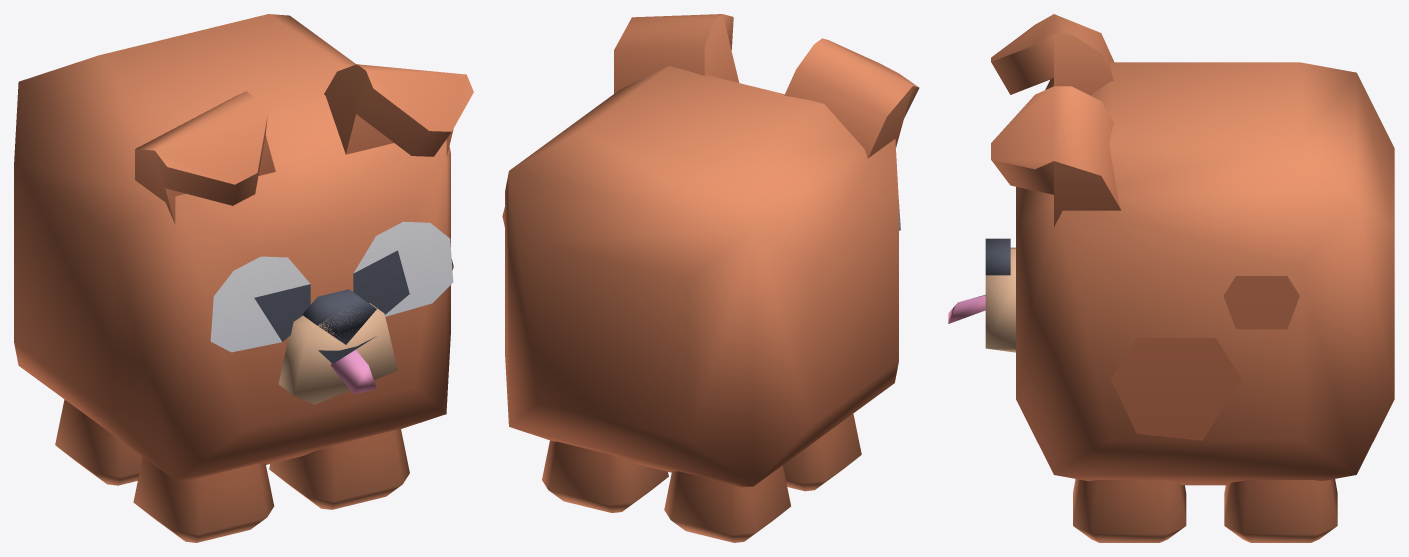
The model's file is cc0-corgi-lod1.glb.
The picture shows the model from 3 angles, left to right: view 1: azimuth 30°, elevation 25°; view 2: azimuth 150°, elevation 25°; view 3: azimuth 270°, elevation 25°; orthographic projection. The views are drawn at different scales.
Parts seen in each view (by area): view 1: part_1, part_5, part_4, part_3; view 2: part_1, part_3, part_2, part_5; view 3: part_1, part_2, part_4.
Part boxes in pixels (x1,y1,x2,y2): part_1: (14, 14, 473, 481); part_5: (133, 457, 274, 542); part_4: (269, 429, 409, 509); part_3: (55, 399, 142, 485); part_1: (502, 14, 919, 487); part_3: (664, 465, 790, 542); part_2: (542, 440, 668, 512); part_5: (783, 414, 861, 491); part_1: (948, 14, 1394, 485); part_2: (1224, 479, 1337, 542); part_4: (1073, 479, 1186, 542).
Bounding box in the file's own units: 1.26 × 1.58 × 1.47.
Materials: 1 (1 with a texture image).
